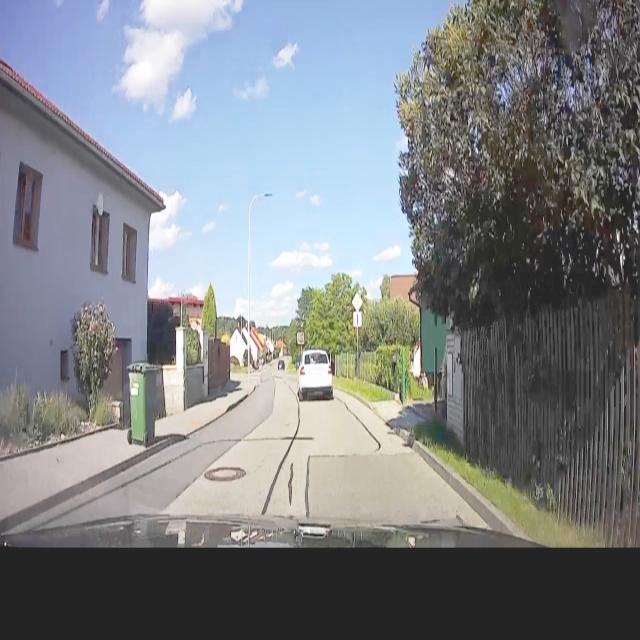Priority road: (350, 287, 364, 312)
